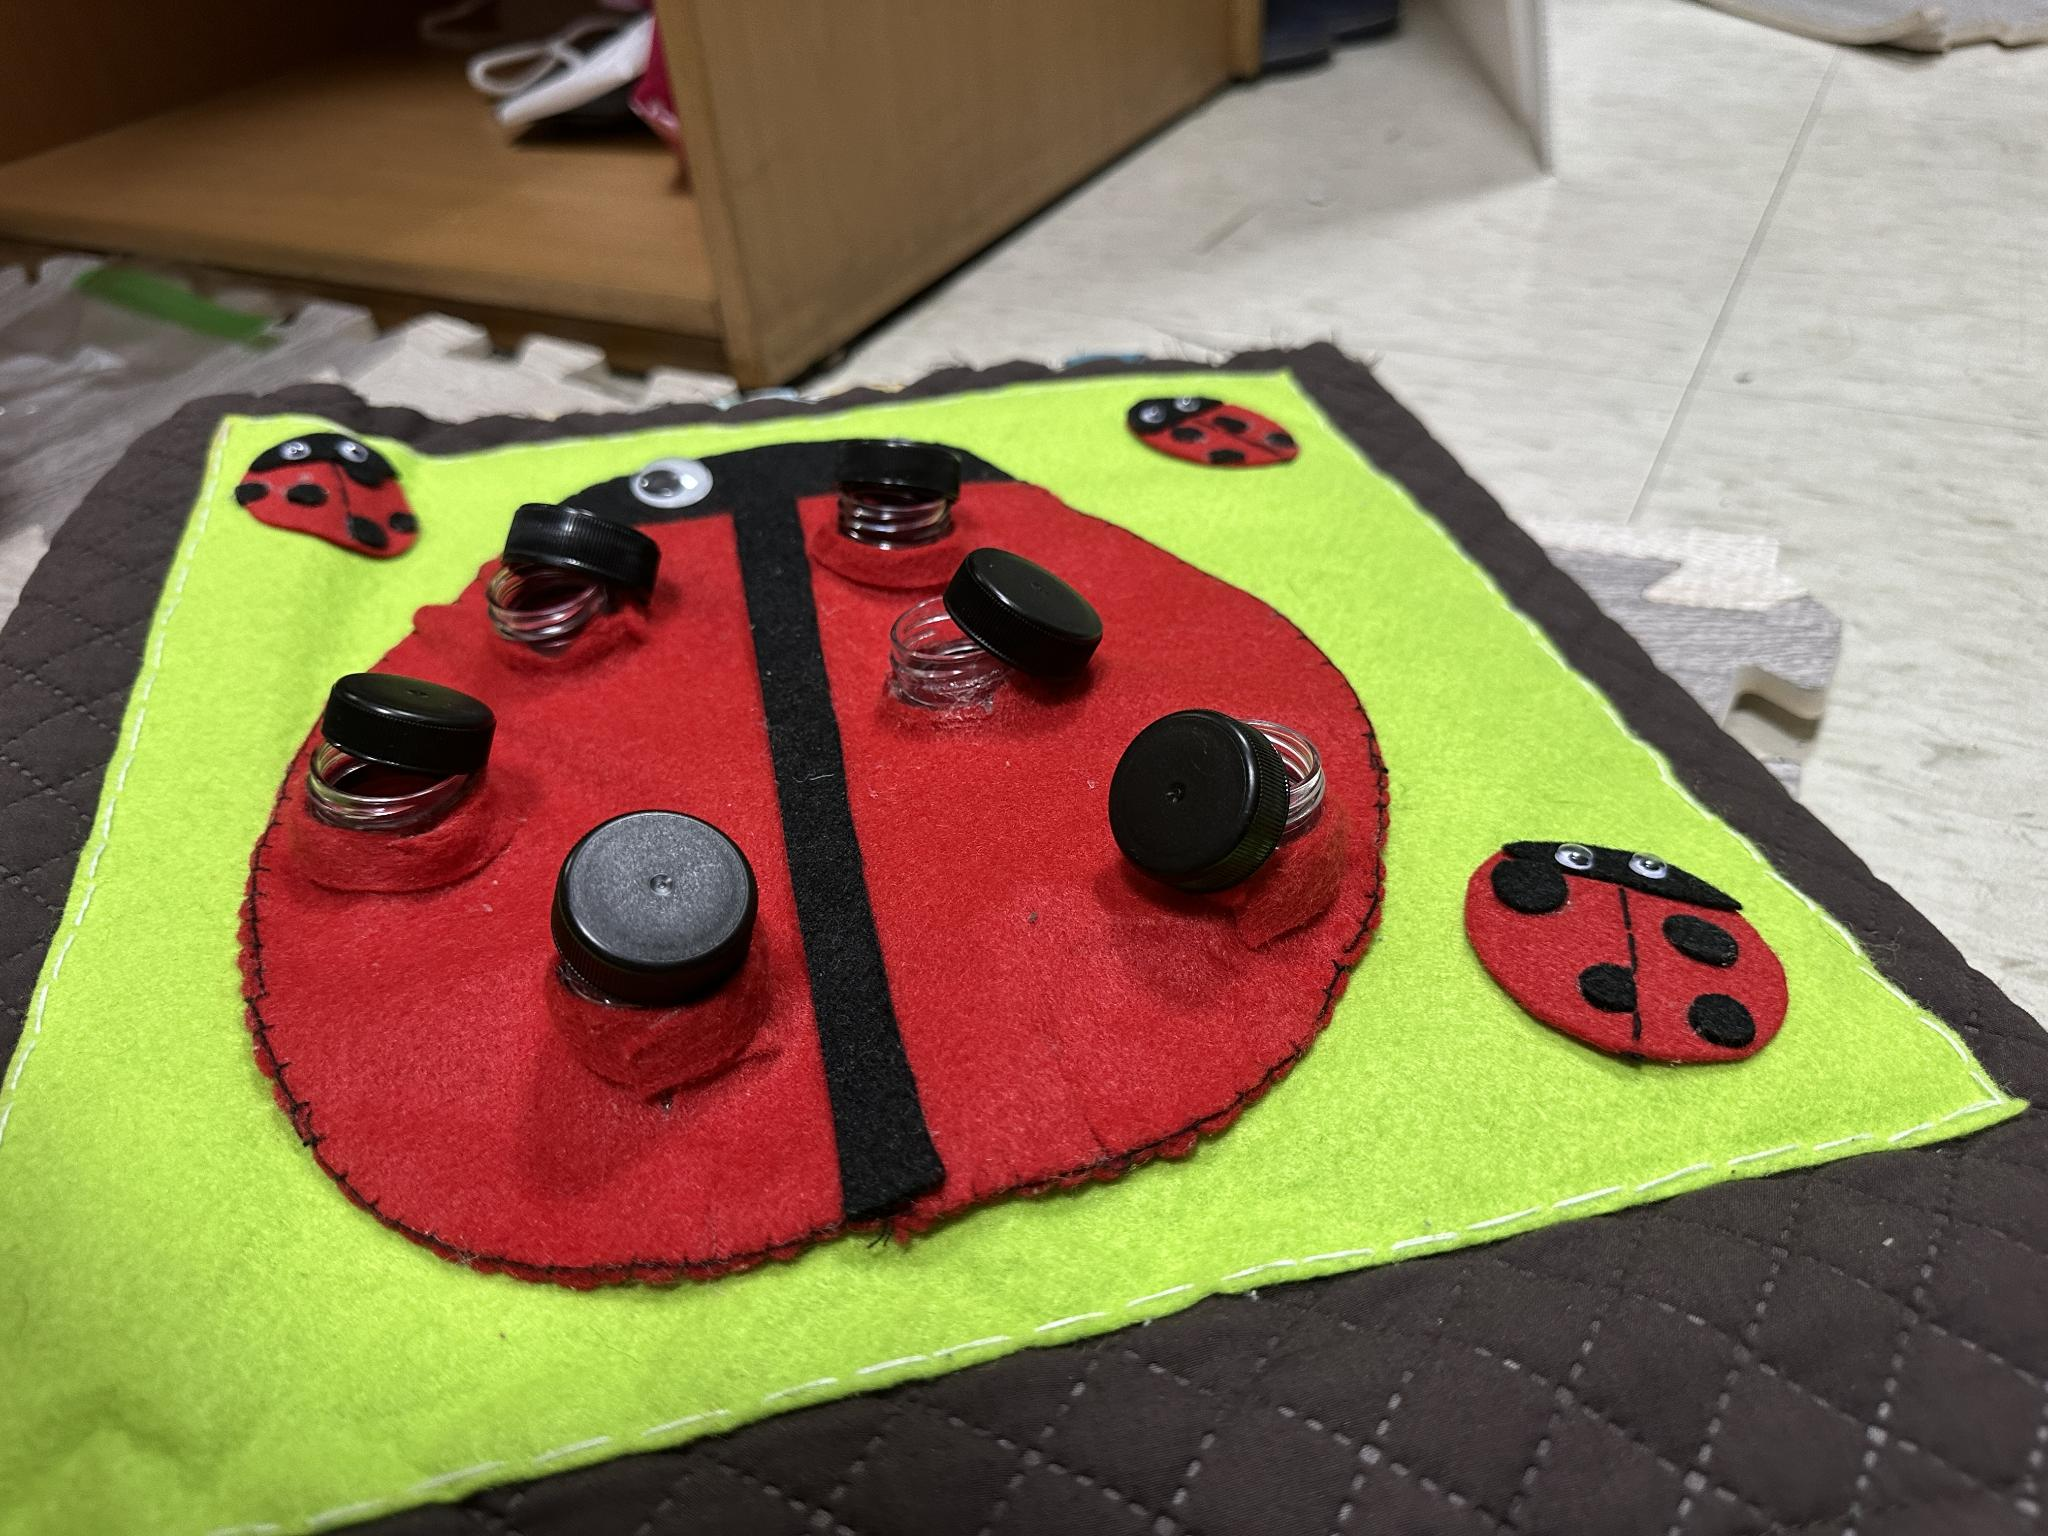cap_ng: (526, 789, 798, 1102), (1108, 674, 1364, 960), (277, 662, 518, 905), (882, 550, 1111, 741), (464, 494, 679, 673), (806, 440, 982, 594)
